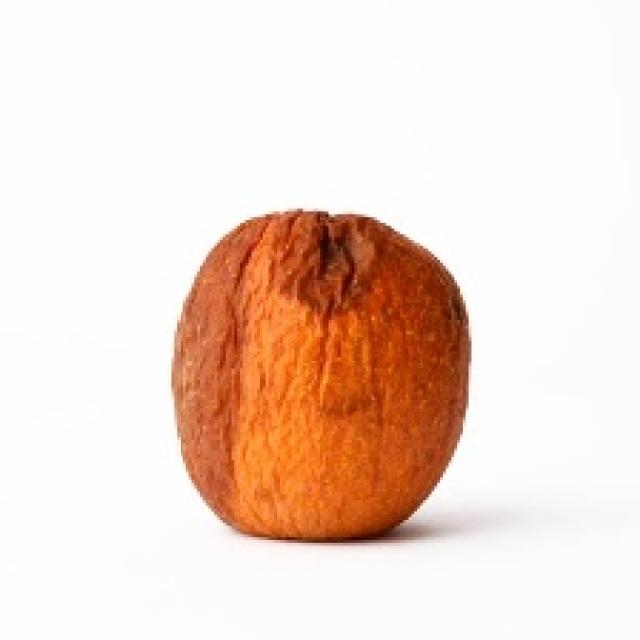rotten_apple: (172, 218, 468, 539)
